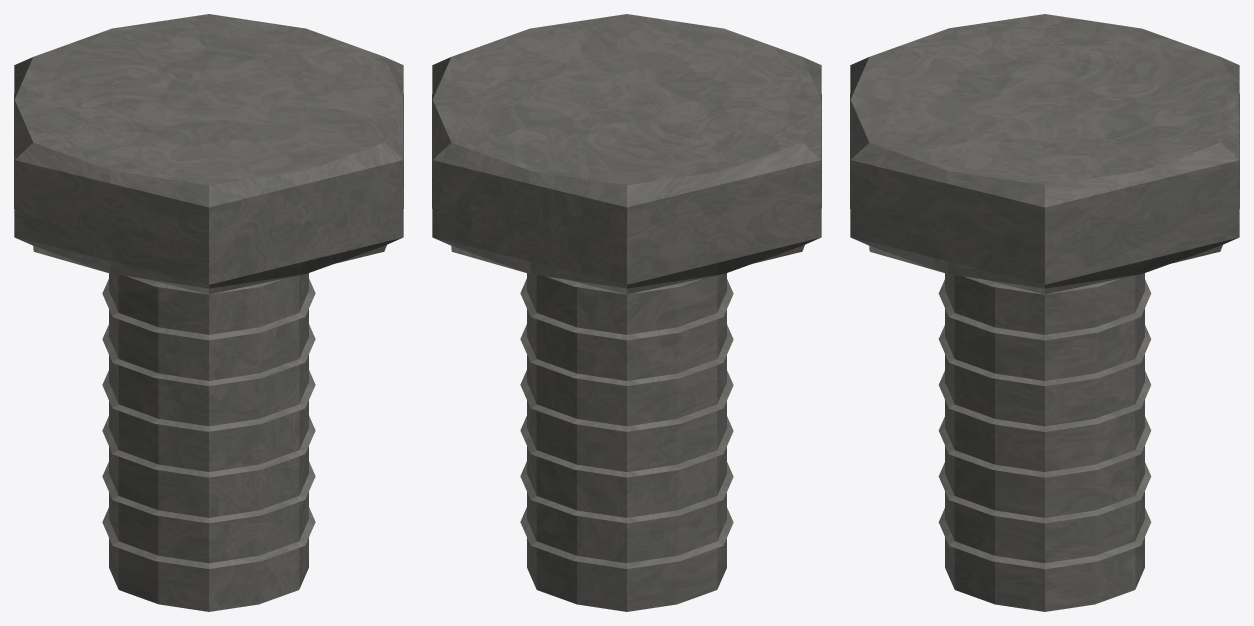
Rendered from rivet.fbx.
3 renders of one model, left to right at view 1: azimuth 30°, elevation 25°; view 2: azimuth 150°, elevation 25°; view 3: azimuth 270°, elevation 25°, orthographic.
Parts seen in each view (by area): view 1: Torus.001; view 2: Torus.001; view 3: Torus.001.
Boxes of the visible parts, x1=… form: Torus.001: x1=14, y1=14, x2=403, y2=611; Torus.001: x1=432, y1=14, x2=821, y2=611; Torus.001: x1=850, y1=14, x2=1239, y2=611.
Size of the model in its own units: 186 by 213 by 161.
1 material, 1 textured.
